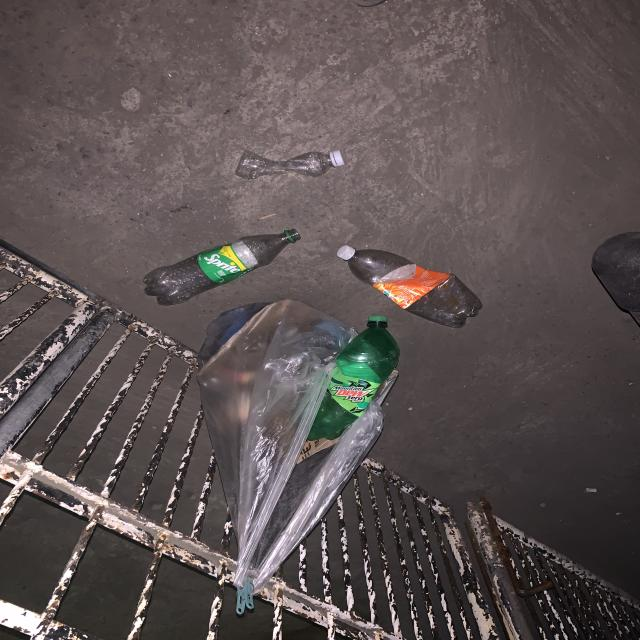Bottle: (143, 228, 300, 305), (337, 246, 482, 327), (235, 150, 345, 179)
